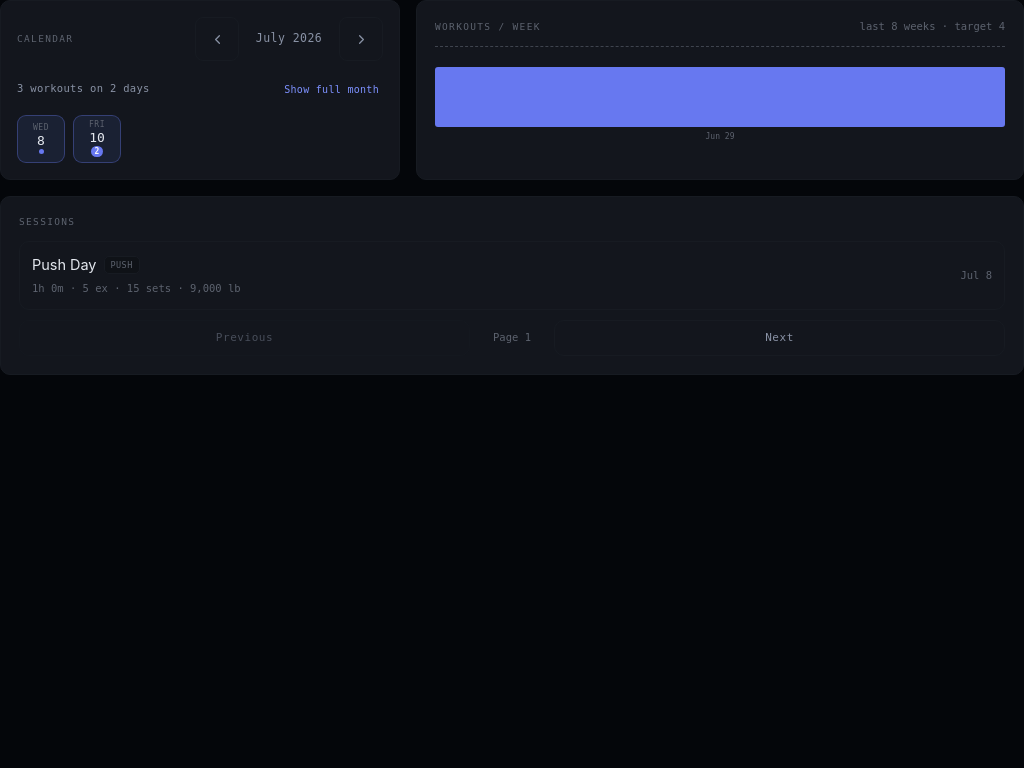
Test case: HistoryTab › resets to page 1 after deleting a session from a later page
Click the button "Next".
click(780, 338)  # box [554, 320, 1005, 356]
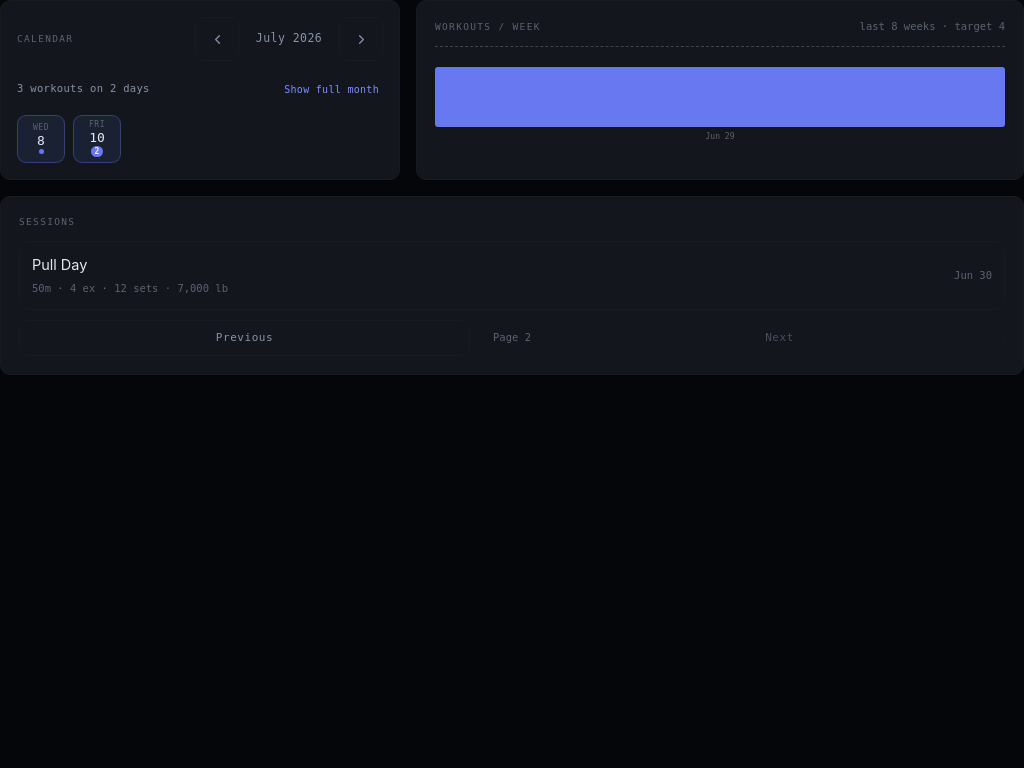
Click the button with aria-label "Open Pull Day".
click(60, 265)  # box [19, 241, 1005, 310]
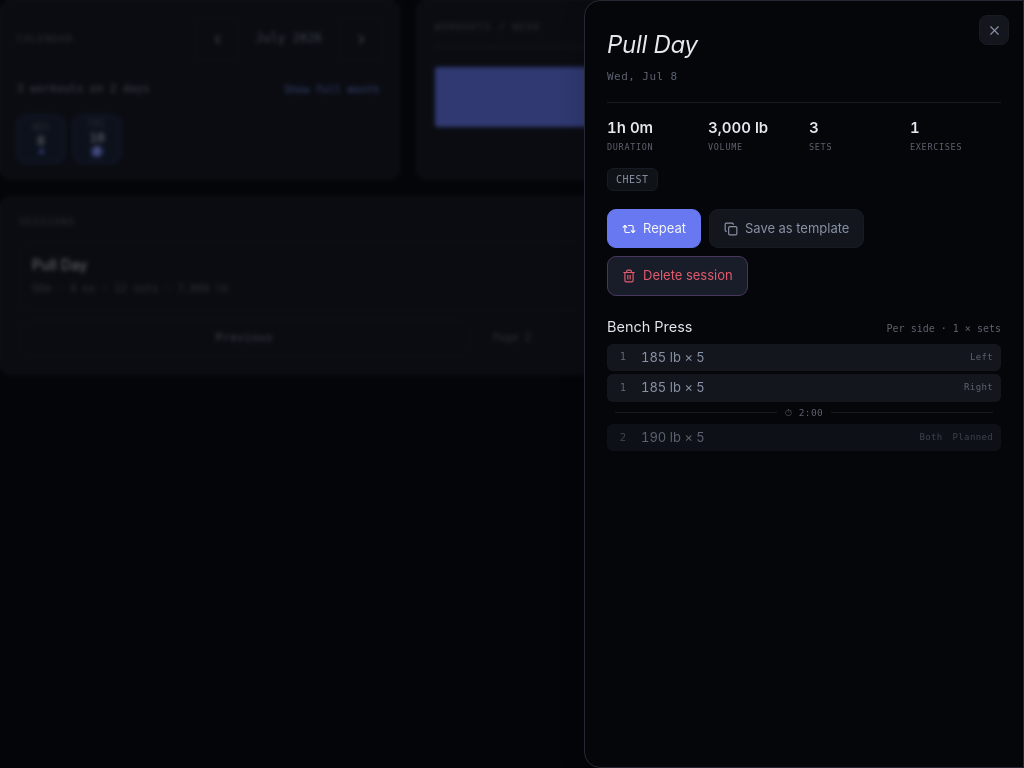
Click the button "Delete session".
click(677, 276)  # box [607, 256, 748, 296]
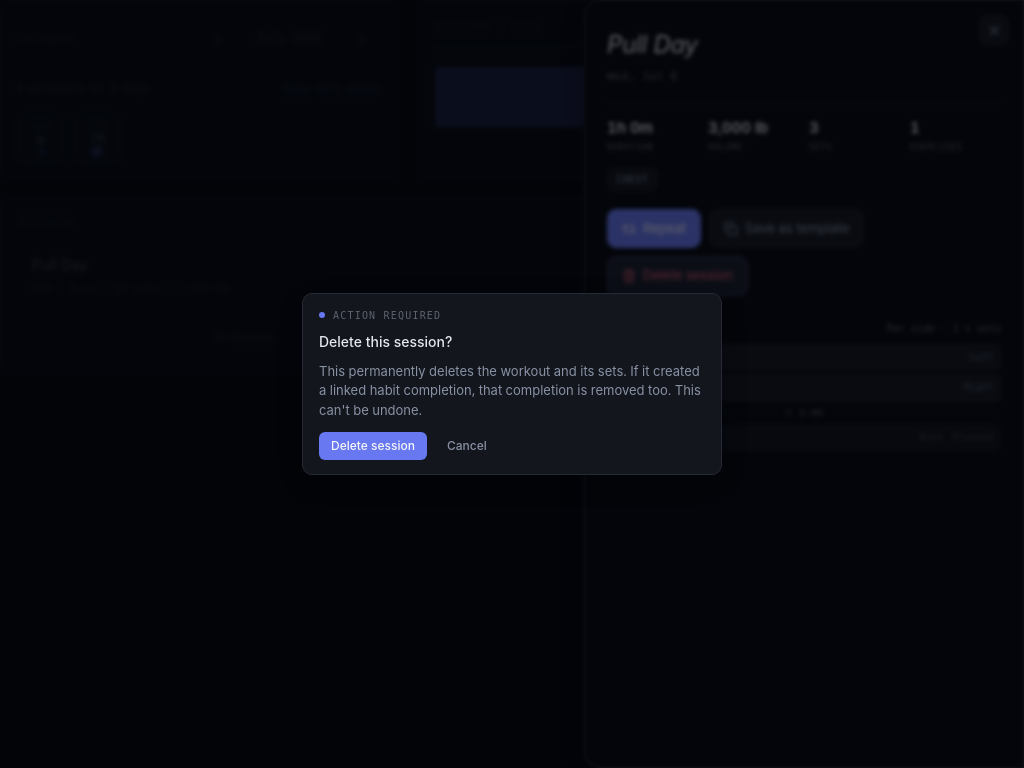
Click the button "Delete session".
click(373, 446)  # box [319, 432, 427, 460]
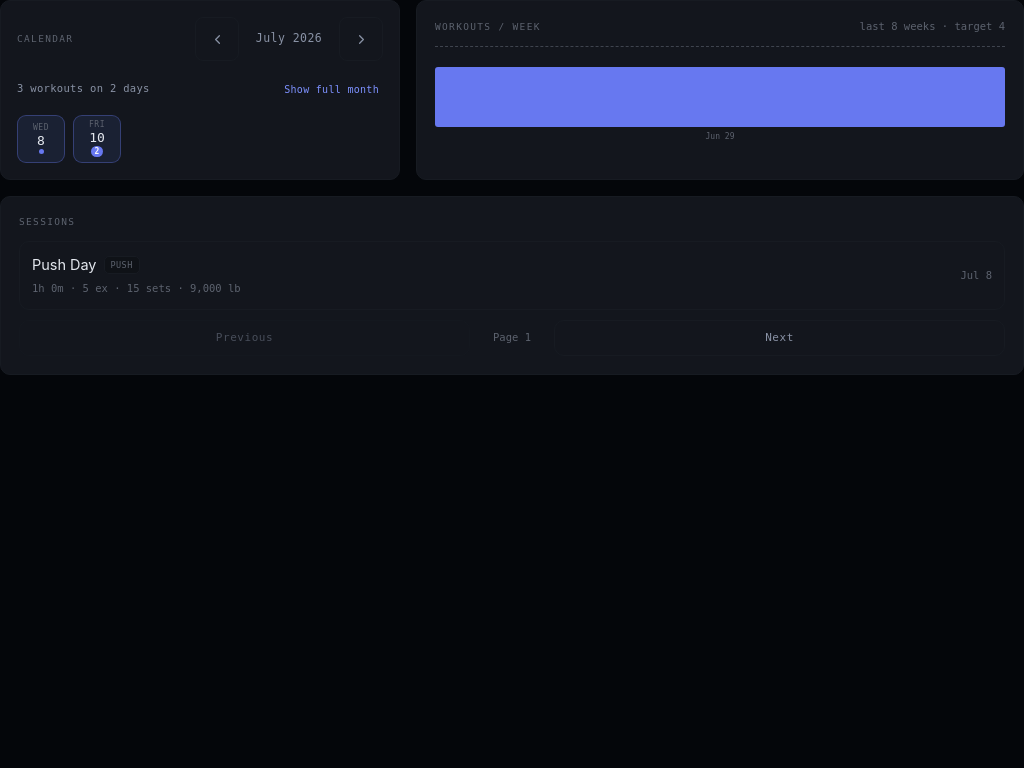
expect the text "Push Day" is shown: met, box [32, 254, 96, 276]
expect the button "Pull Day" is gone: met
expect the text "Page 1" is shown: met, box [493, 331, 531, 343]
